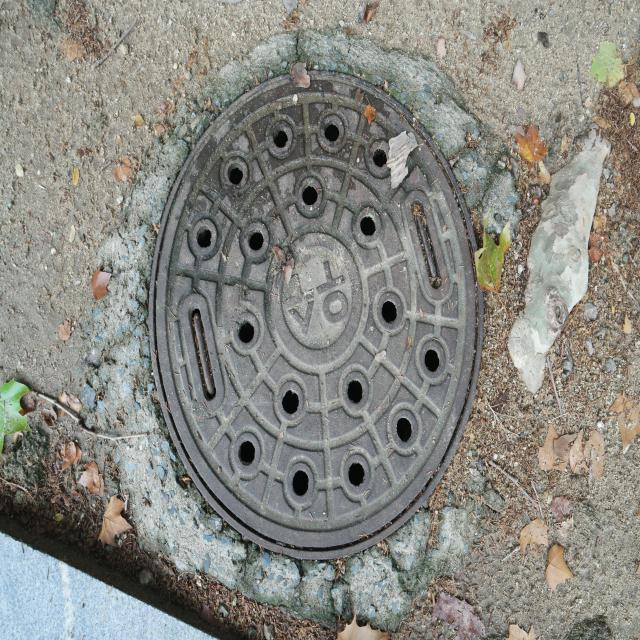manhole: (151, 71, 480, 558)
